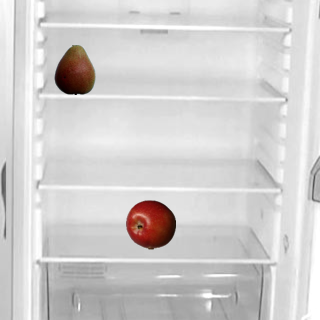Apple Braeburn: (125, 199, 175, 249)
Pear Forelle: (49, 44, 99, 94)
